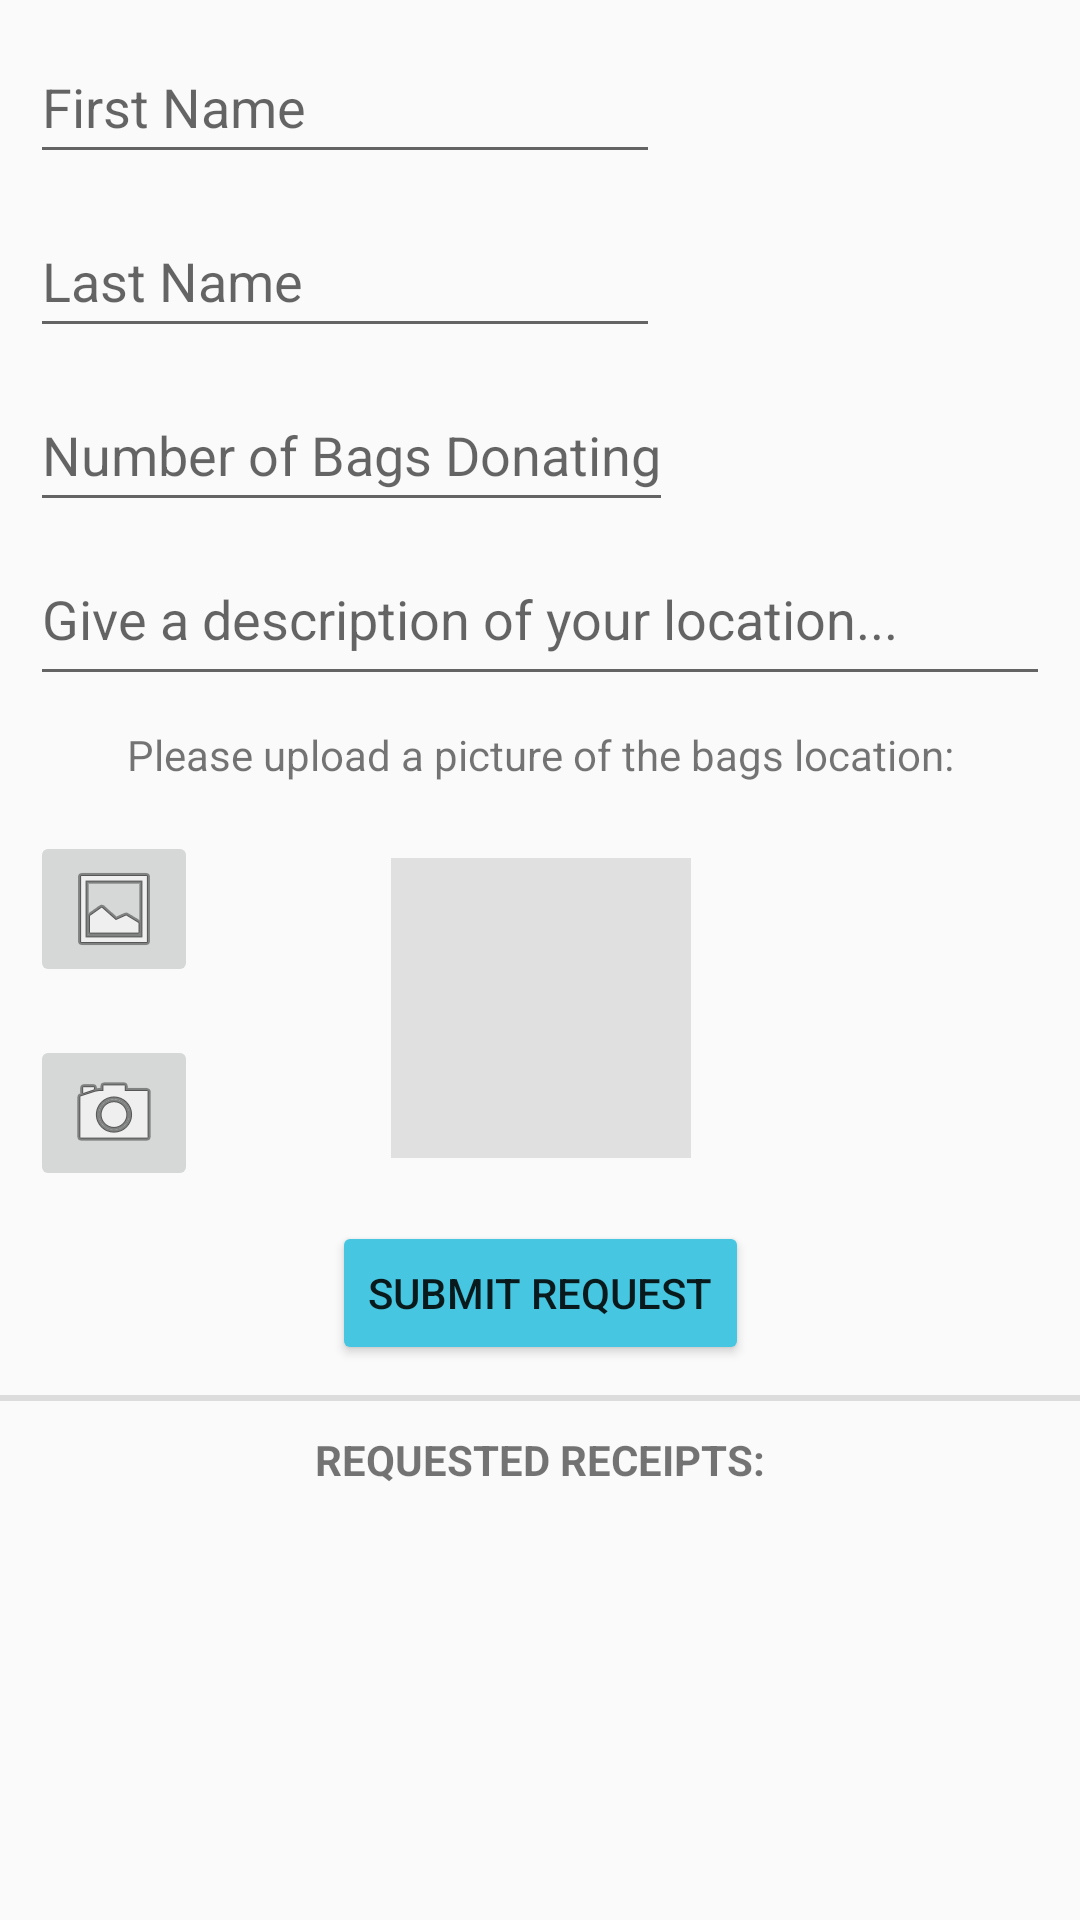

Icon click points for this 1080w x 1920h phone screenshot, format (x,y):
camera: (114,1113)
gallery: (114,909)
